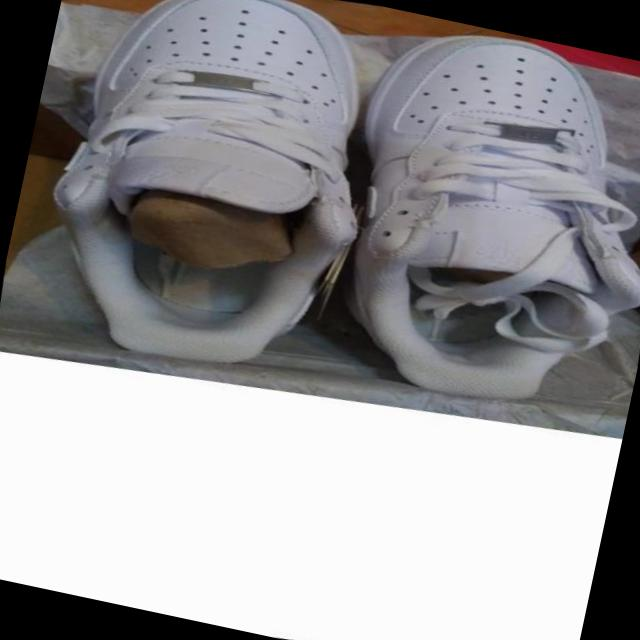nike_original_airforce: (0, 0, 418, 414), (284, 2, 640, 452)
